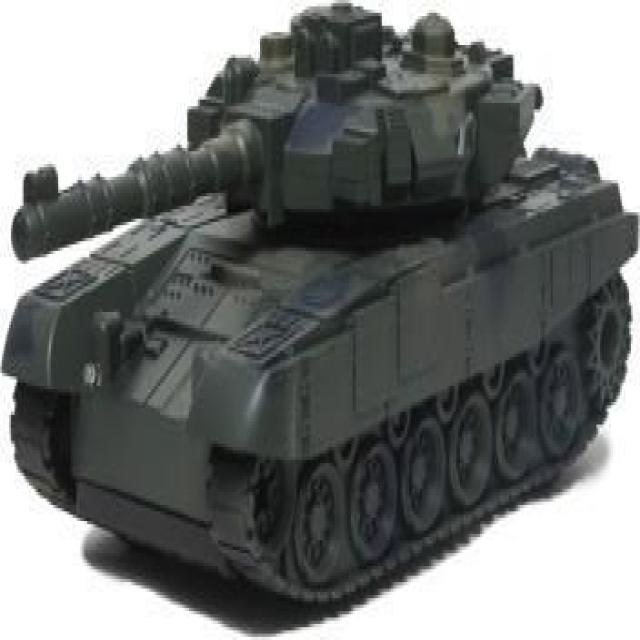Tanks: (8, 13, 634, 582)
